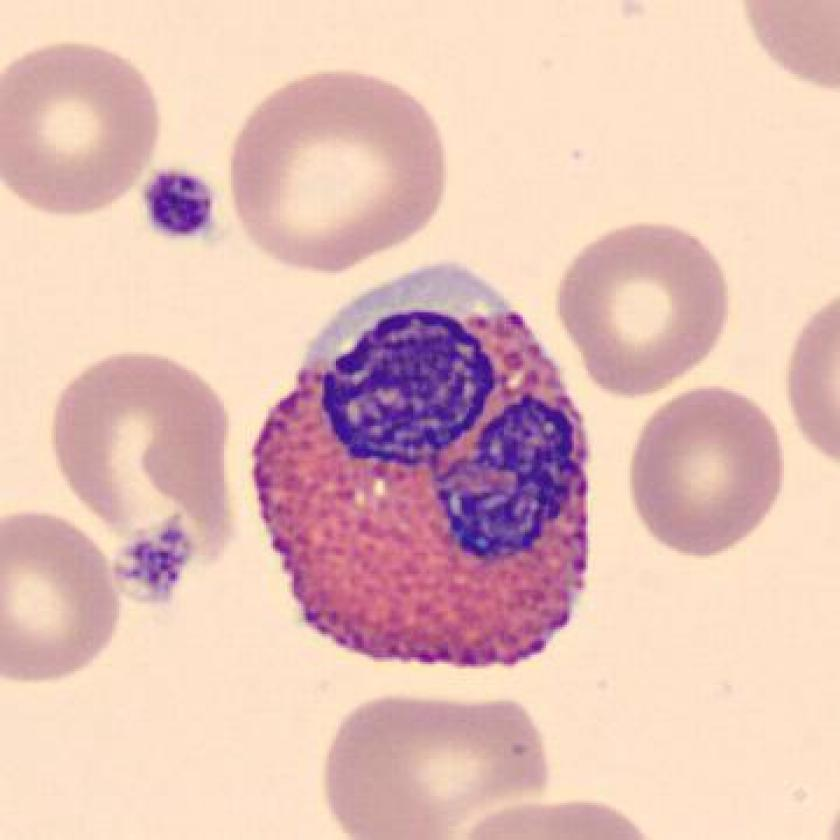eosinophil: (239, 246, 612, 686)
